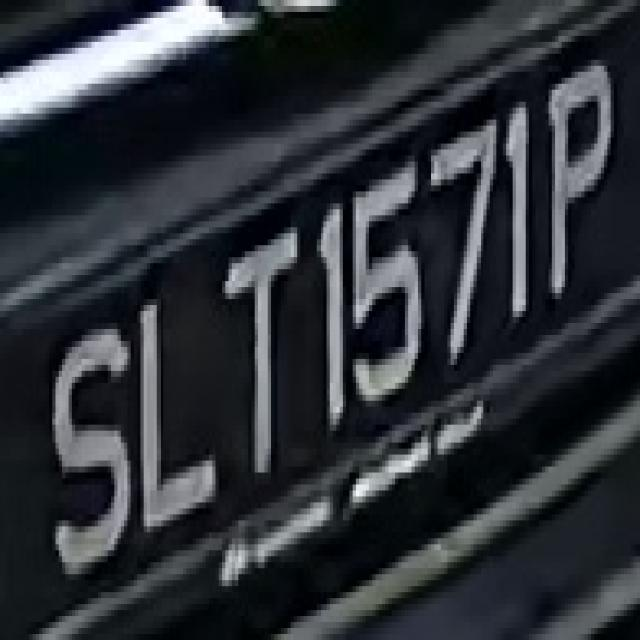1: (310, 186, 350, 437), (493, 96, 529, 341)
5: (340, 156, 421, 400)
7: (408, 120, 500, 400)
L: (131, 269, 222, 526)
P: (539, 72, 617, 317)
S: (36, 299, 131, 586)
T: (212, 228, 314, 497)
